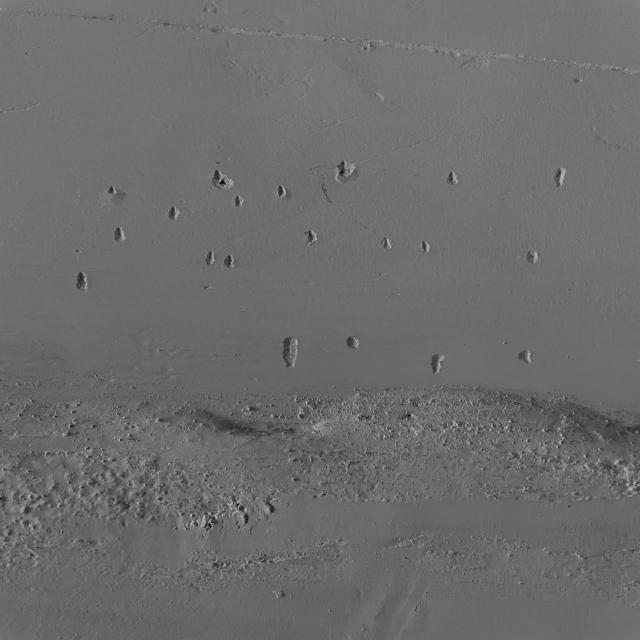rough and patchy surface: (0, 376, 640, 640)
